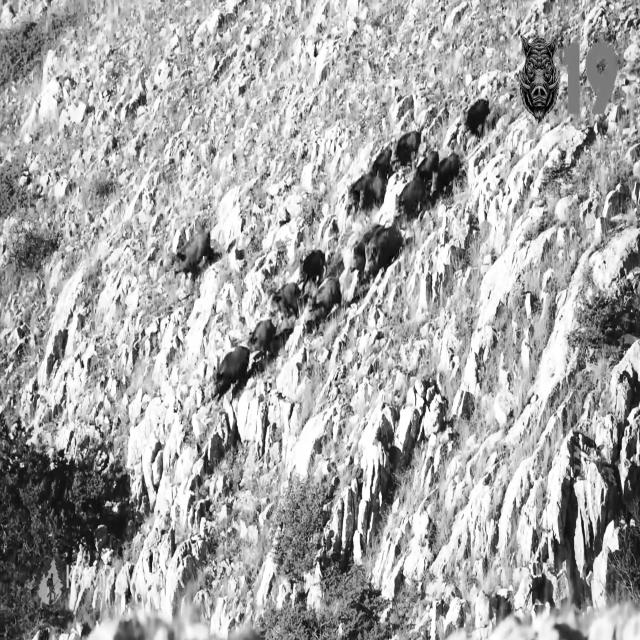boar: (399, 150, 460, 218), (350, 224, 402, 278), (350, 144, 393, 209), (365, 225, 403, 275), (216, 345, 250, 394), (176, 229, 211, 272), (312, 276, 342, 321), (274, 282, 300, 315), (251, 318, 276, 351), (396, 131, 421, 164), (467, 98, 490, 132), (303, 249, 325, 280)
